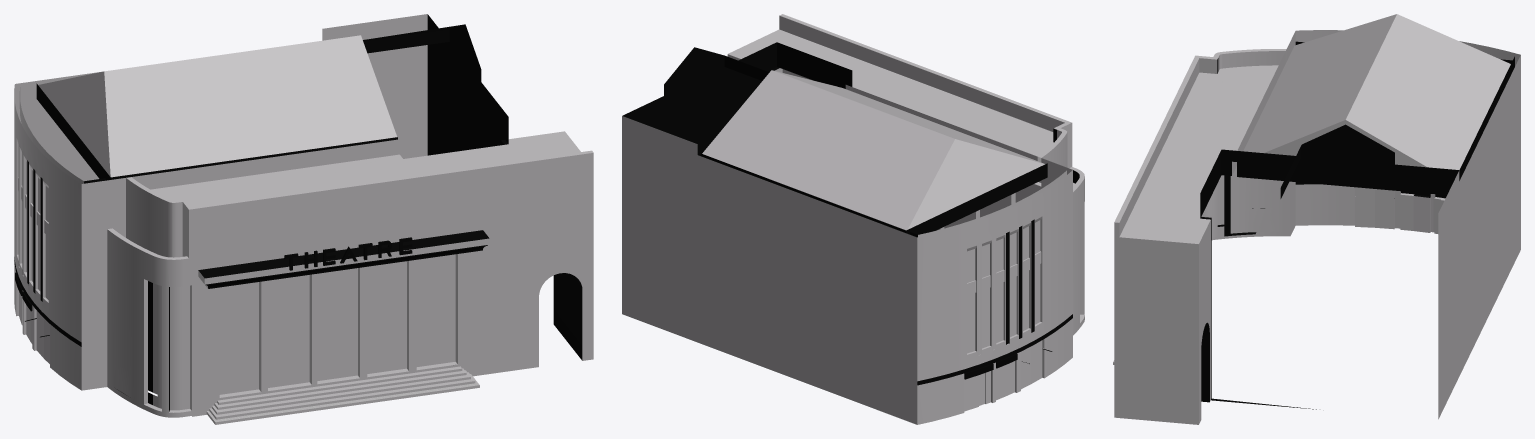
3 views of the same model, side by side, from view 1: azimuth 30°, elevation 25°; view 2: azimuth 150°, elevation 25°; view 3: azimuth 270°, elevation 25° (orthographic). The views are drawn at different scales.
Visible parts, largest first — view 1: node_id28 (×31), node_id4 (×8), node_id25; view 2: node_id28 (×11), node_id15 (×2); view 3: node_id28 (×9), node_id15 (×5).
Boxes of the visible parts, x1,y1,x2,y2 form: node_id28 (×31): (14,14,593,417); node_id4 (×8): (206,364,479,424); node_id25: (284,237,412,270); node_id28 (×11): (622,14,1084,424); node_id15 (×2): (964,339,1044,411); node_id28 (×9): (1114,14,1520,424); node_id15 (×5): (1355,187,1445,232).
Size of the model in its own units: 0.512 by 0.2907 by 0.4334.
Materials: 115 (115 with a texture image).
